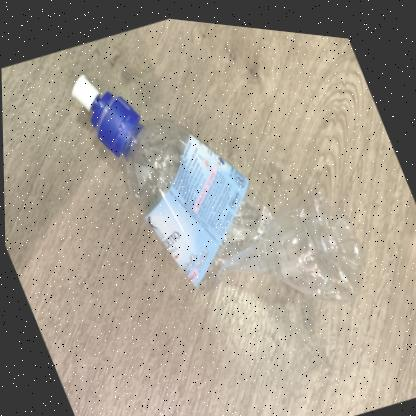Plastic: (71, 72, 360, 295)
